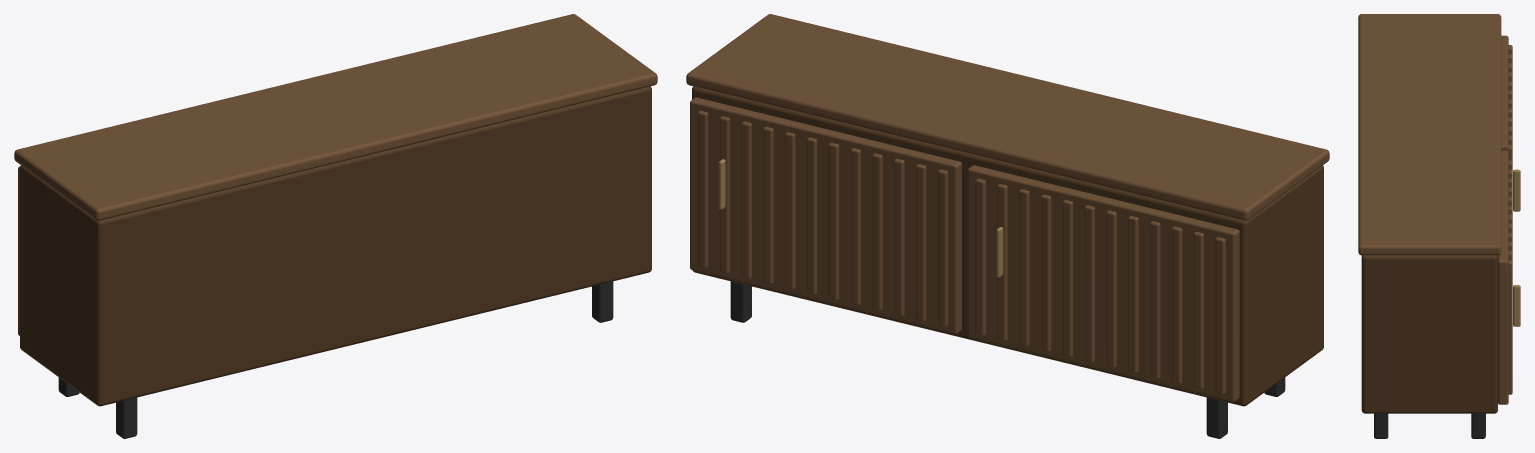
File: tv_console.glb
3 views of the same model, side by side, from view 1: azimuth 30°, elevation 25°; view 2: azimuth 150°, elevation 25°; view 3: azimuth 270°, elevation 25° (orthographic). The views are drawn at different scales.
Parts seen in each view (by area): view 1: Cabinet carcass, Oak cap, Tapered foot.001, Tapered foot.003; view 2: Oak cap, Door, Door.001, Cabinet carcass, Fluted door batten.008, Fluted door batten.018, Fluted door batten.002, Fluted door batten.012, Fluted door batten.017, Fluted door batten.023, Fluted door batten.007, Fluted door batten.011 (+18 smaller); view 3: Oak cap, Cabinet carcass, Door.001, Door, Fluted door batten.023, Tapered foot.002, Tapered foot.003, Brass pull, Brass pull.001.
Part boxes in pixels (left/top/right/bottom): Cabinet carcass: left=20, top=86, right=651, bottom=406; Oak cap: left=14, top=14, right=657, bottom=220; Tapered foot.001: left=116, top=397, right=137, bottom=438; Tapered foot.003: left=592, top=281, right=613, bottom=322; Oak cap: left=686, top=14, right=1329, bottom=220; Door: left=967, top=165, right=1239, bottom=401; Door.001: left=690, top=97, right=961, bottom=334; Cabinet carcass: left=692, top=86, right=1323, bottom=406; Fluted door batten.008: left=1040, top=194, right=1051, bottom=352; Fluted door batten.018: left=806, top=137, right=817, bottom=295; Fluted door batten.002: left=1171, top=226, right=1182, bottom=384; Fluted door batten.012: left=937, top=169, right=948, bottom=327; Fluted door batten.017: left=828, top=142, right=839, bottom=300; Fluted door batten.023: left=697, top=110, right=708, bottom=268; Fluted door batten.007: left=1062, top=200, right=1073, bottom=357; Fluted door batten.011: left=975, top=178, right=985, bottom=336; Oak cap: left=1358, top=14, right=1501, bottom=255; Cabinet carcass: left=1361, top=255, right=1497, bottom=413; Door.001: left=1498, top=151, right=1508, bottom=404; Door: left=1501, top=35, right=1508, bottom=152; Fluted door batten.023: left=1508, top=260, right=1512, bottom=394; Tapered foot.002: left=1471, top=413, right=1485, bottom=438; Tapered foot.003: left=1374, top=413, right=1388, bottom=438; Brass pull: left=1513, top=169, right=1520, bottom=211; Brass pull.001: left=1513, top=285, right=1520, bottom=326.
Size of the model in its own units: 1.7 by 0.7085 by 0.4995.
